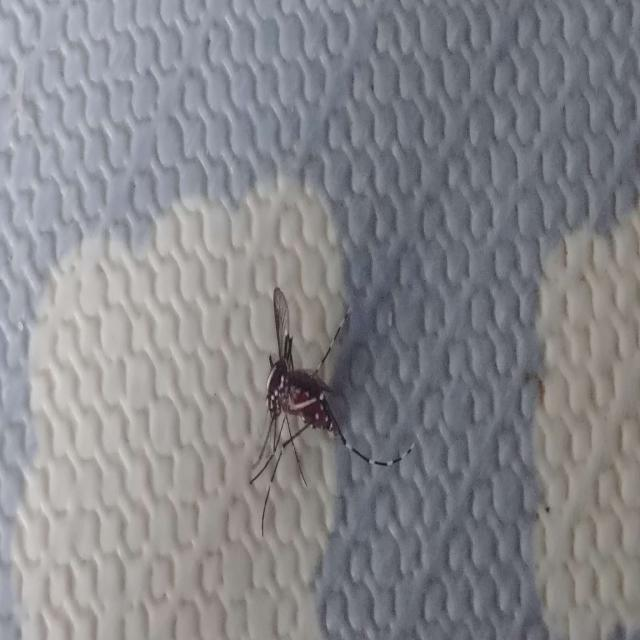albopictus: (246, 276, 408, 542)
